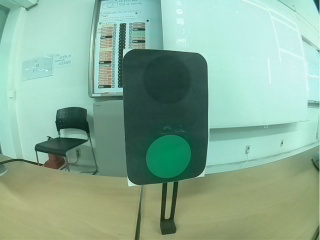green_light: (122, 50, 208, 189)
